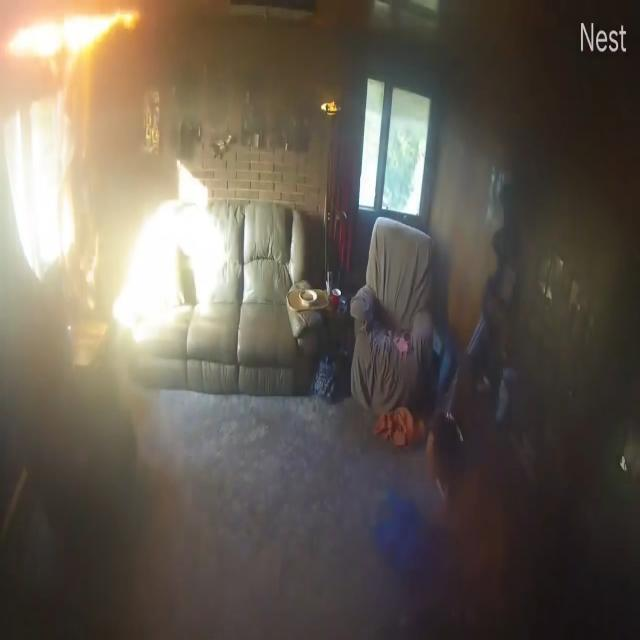Fire: (4, 7, 137, 95)
